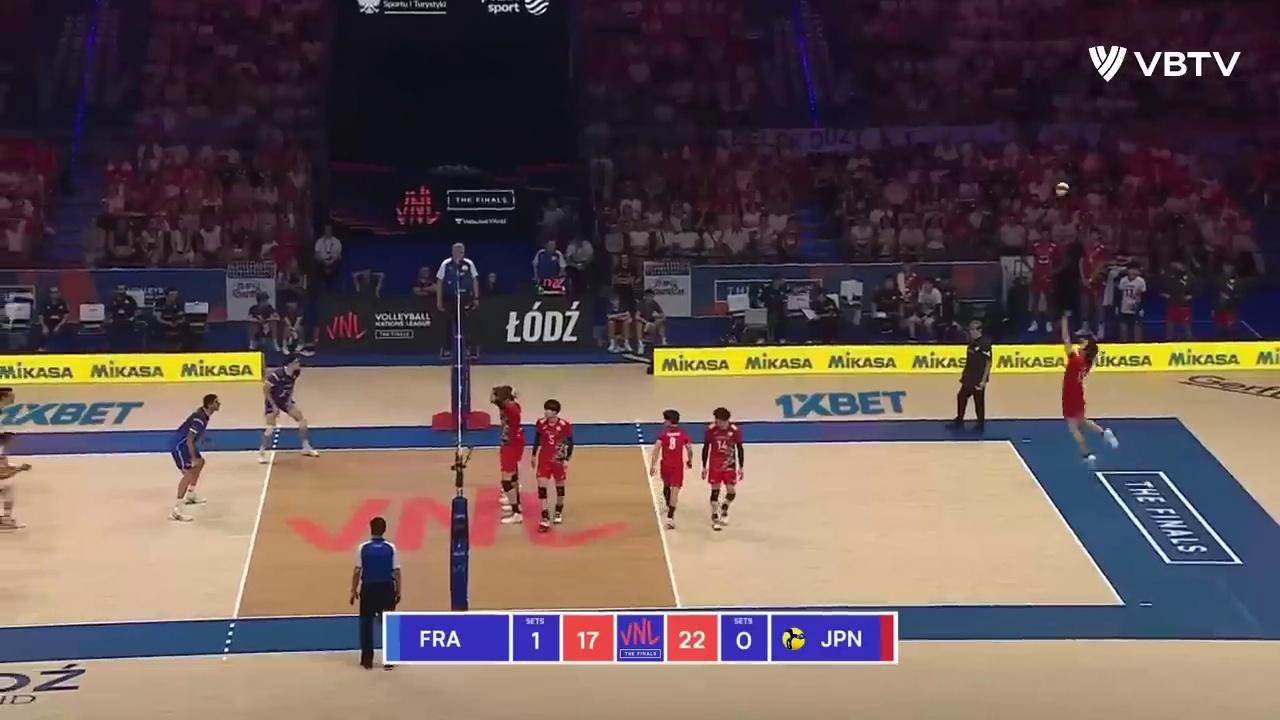ball: (1056, 182, 1068, 197)
